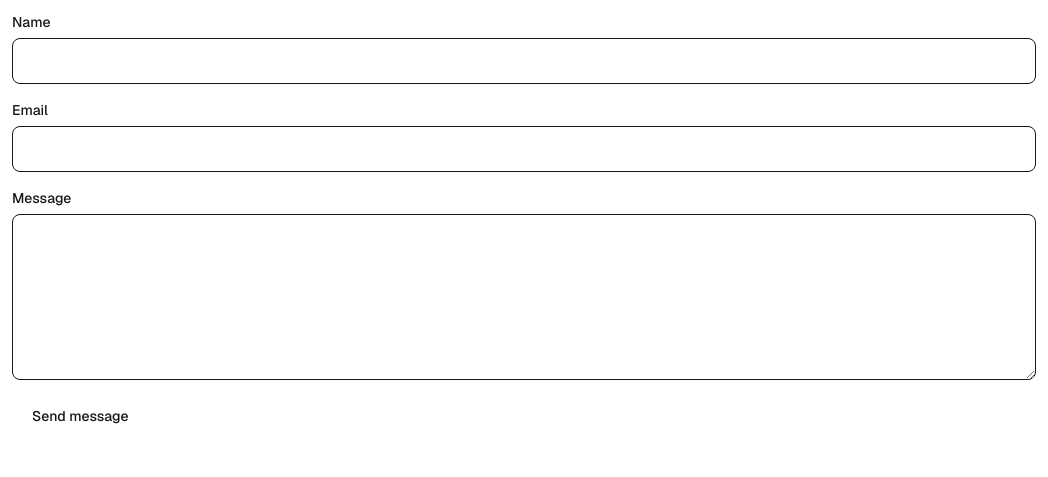
Test: ContactForm › shows an error when required fields are missing
The image size is (1048, 477).
Click the button "Send message". click: (80, 416)
box: [12, 396, 148, 436]
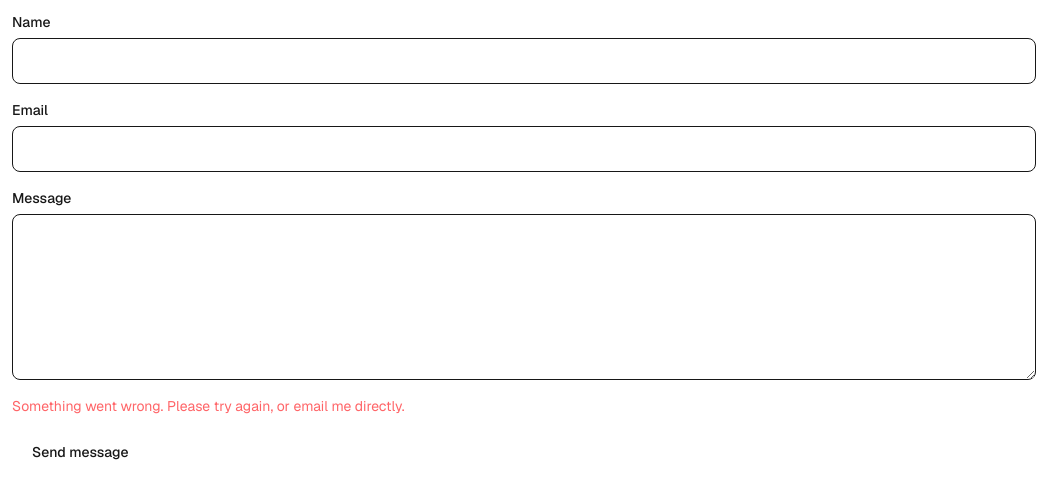
Result: the message "Something went wrong. Please try again, or email me directly." is shown at [12, 397, 404, 415]
